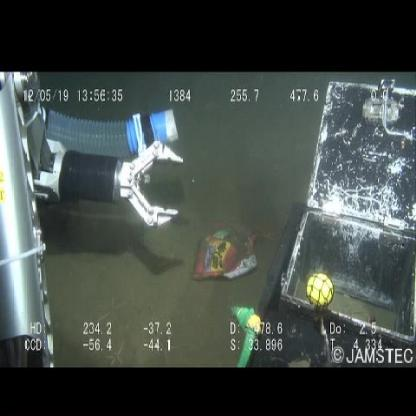Rov: (262, 78, 416, 366), (1, 74, 182, 243)
Rác: (189, 215, 260, 285)
